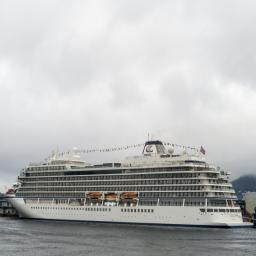cruises: (3, 140, 255, 231)
